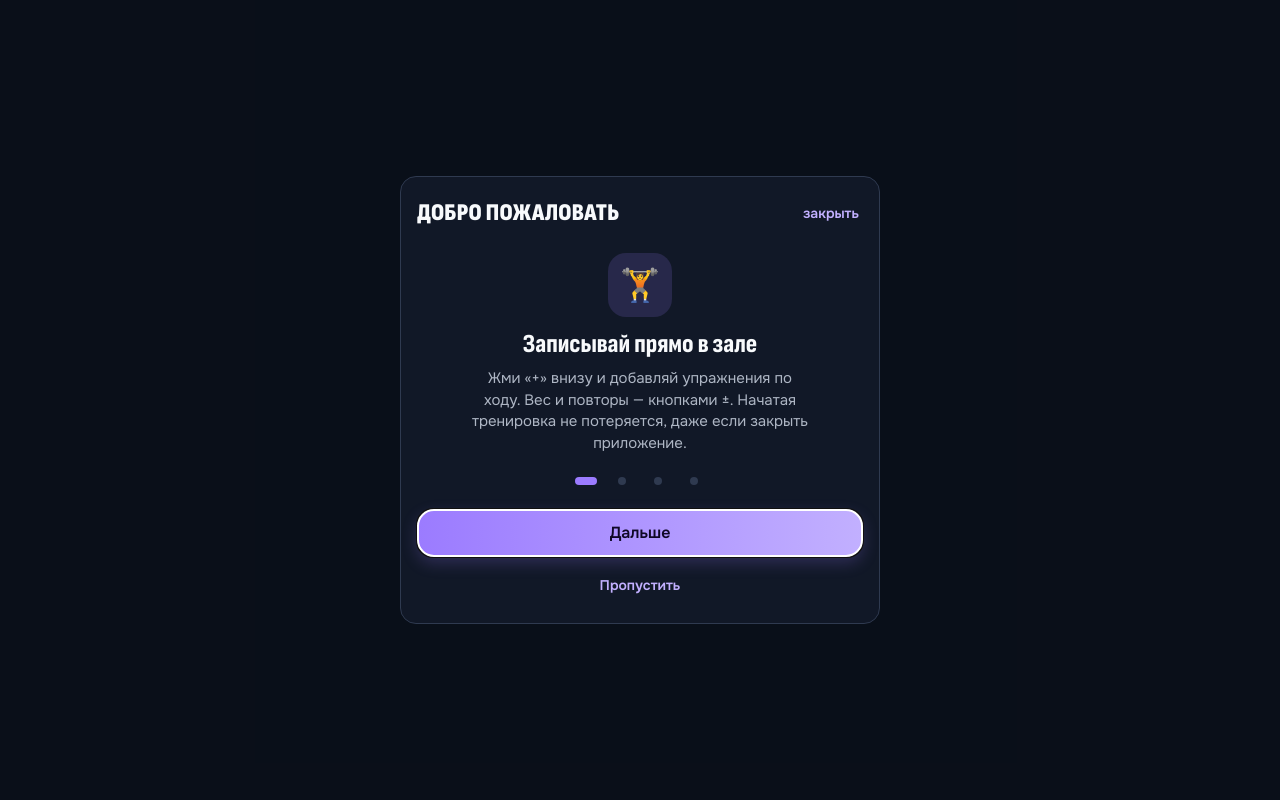
Scenario: WelcomeSheet › точки переключают карточку и показывают текущую
The width and height of the screenshot is (1280, 800).
What coordinates should you click on to do the following:
click the button named "Шаг 3 из 4"
I would click on:
 (658, 481)
Its box is [640,459,676,503].
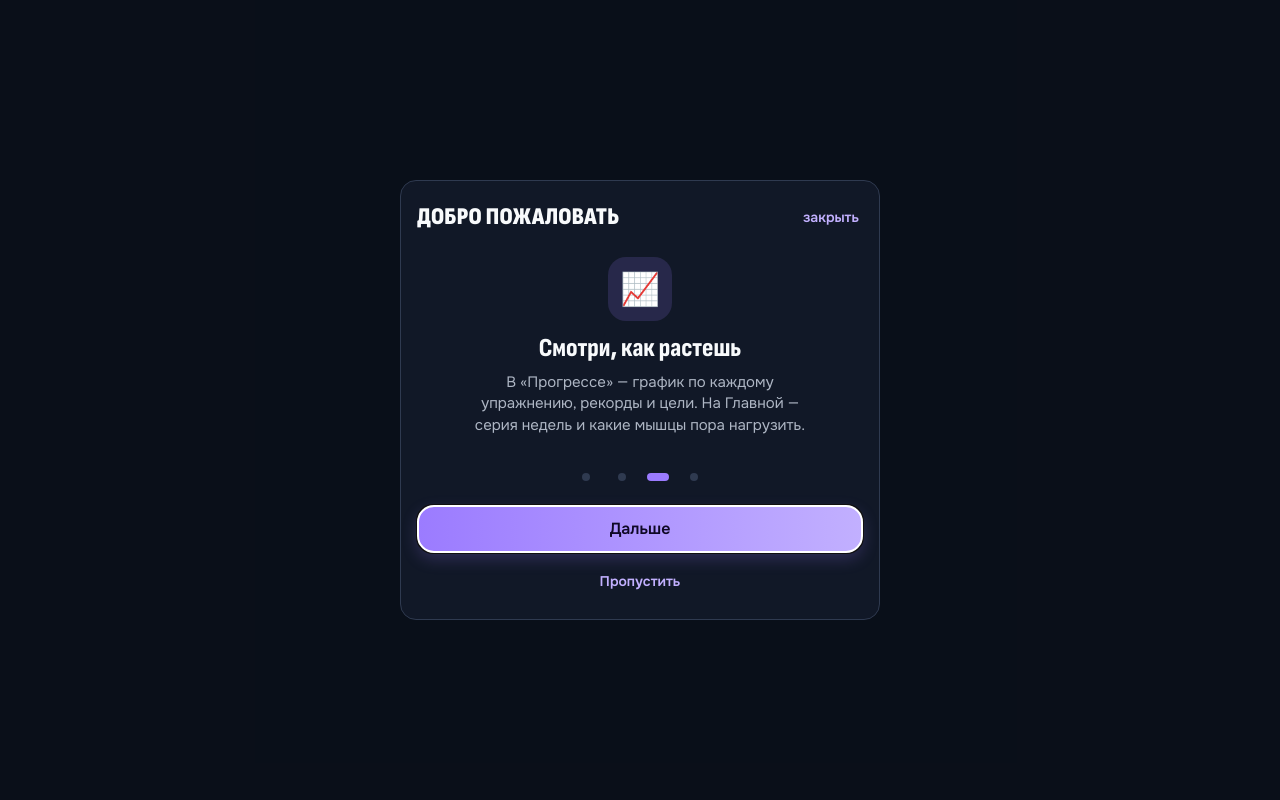
Expected: the text "Смотри, как растешь" is shown, [539,335,741,364]
